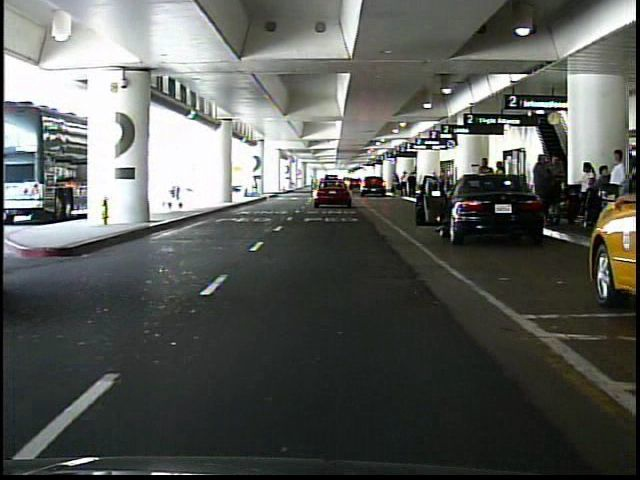person: (607, 147, 627, 238), (534, 152, 558, 212), (594, 163, 615, 229), (477, 157, 495, 212), (495, 158, 511, 212), (579, 160, 597, 193), (402, 169, 411, 198), (409, 172, 418, 199), (395, 175, 403, 196), (309, 174, 318, 191), (558, 150, 559, 224)
